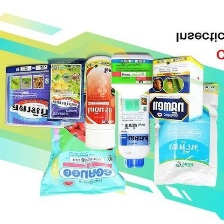insecticide: (35, 81, 127, 200), (149, 80, 221, 189), (2, 61, 69, 130), (144, 53, 207, 124), (113, 66, 153, 171), (81, 53, 117, 152), (42, 55, 88, 125), (107, 49, 156, 114)
